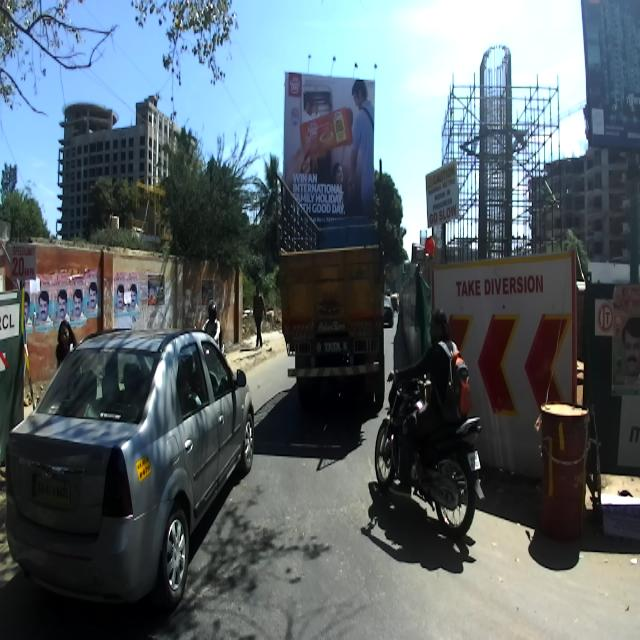car ahead at: (15, 324, 262, 596)
motorcycle ahead at: (370, 377, 493, 533)
truck ahead at: (265, 154, 405, 386)
